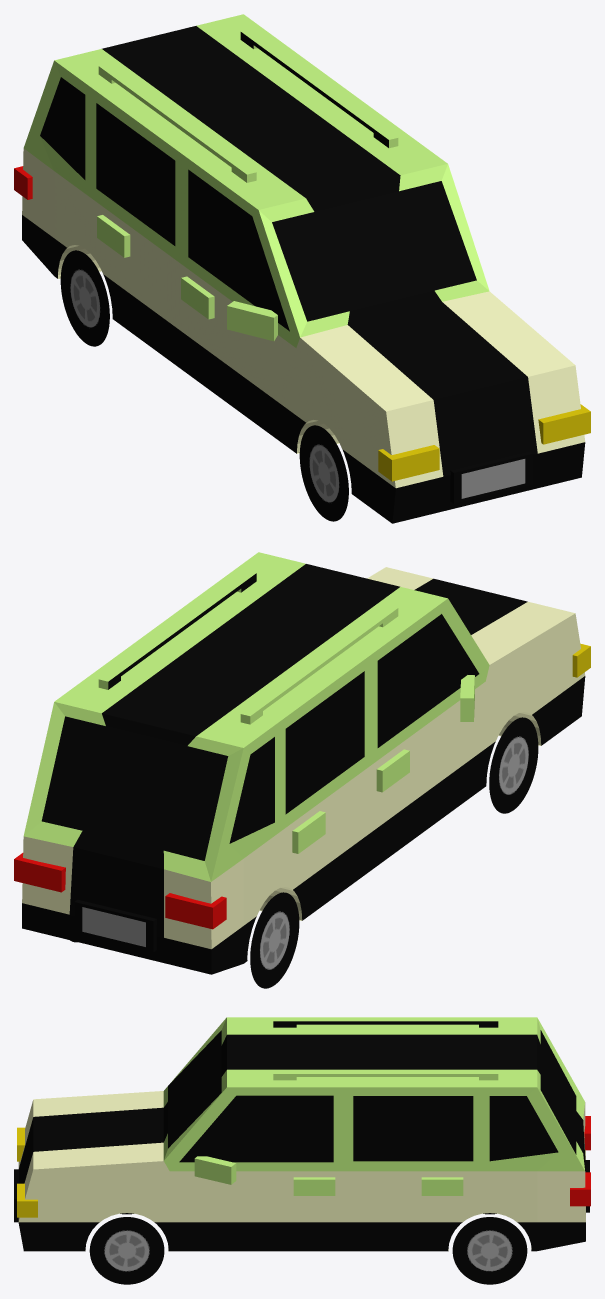
File: Mobil_7_Hitam_D.fbx
3 views of the same model, one above another, from view 1: azimuth 30°, elevation 25°; view 2: azimuth 150°, elevation 25°; view 3: azimuth 270°, elevation 25° (orthographic). The views are drawn at different scales.
Parts seen in each view (by area): view 1: Mobil4.001; view 2: Mobil4.001; view 3: Mobil4.001.
Part boxes in pixels (x1,y1,x2,y2): Mobil4.001: [14, 14, 590, 523]; Mobil4.001: [14, 552, 590, 988]; Mobil4.001: [14, 1017, 590, 1284].
Bounding box in the file's own units: 519 × 540 × 1385.
5 materials, 3 textured.
